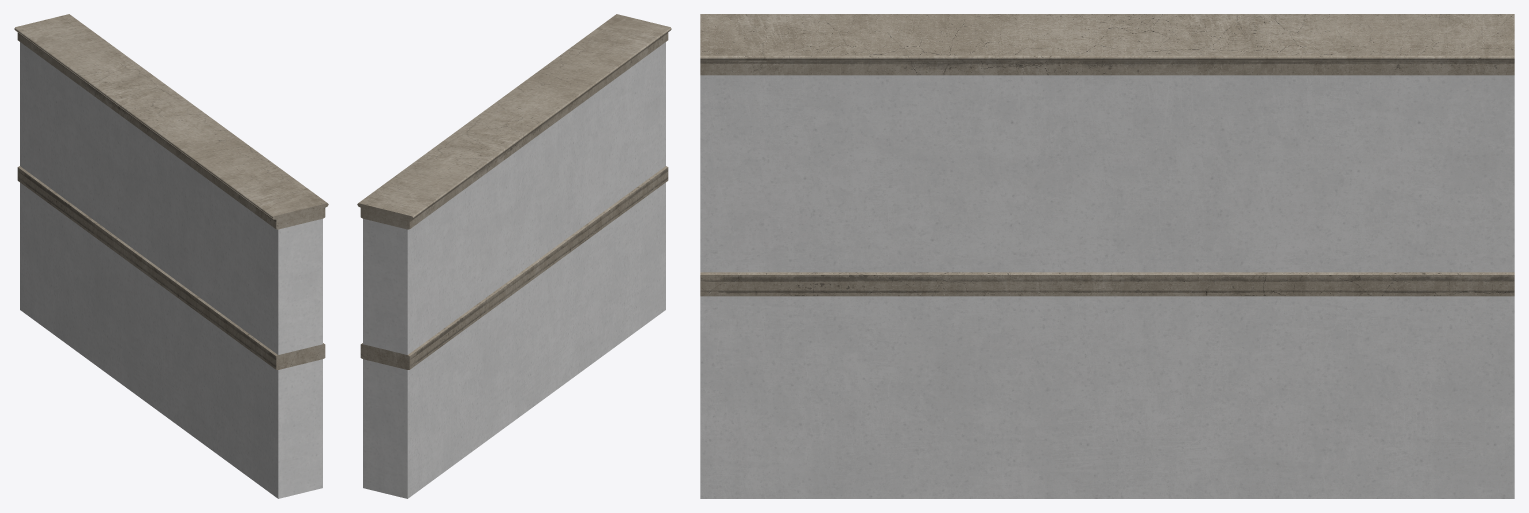
The model's file is MB_Fence_C_4m.fbx.
3 renders of one model, left to right at view 1: azimuth 30°, elevation 25°; view 2: azimuth 150°, elevation 25°; view 3: azimuth 270°, elevation 25°, orthographic. The views are drawn at different scales.
Visible parts, largest first — view 1: MB_Fence_C_4m; view 2: MB_Fence_C_4m; view 3: MB_Fence_C_4m.
Part boxes in pixels (x1,y1,x2,y2): MB_Fence_C_4m: (14,14,328,498); MB_Fence_C_4m: (357,14,671,498); MB_Fence_C_4m: (700,14,1514,498).
Size of the model in its own units: 50.05 by 242 by 400.
